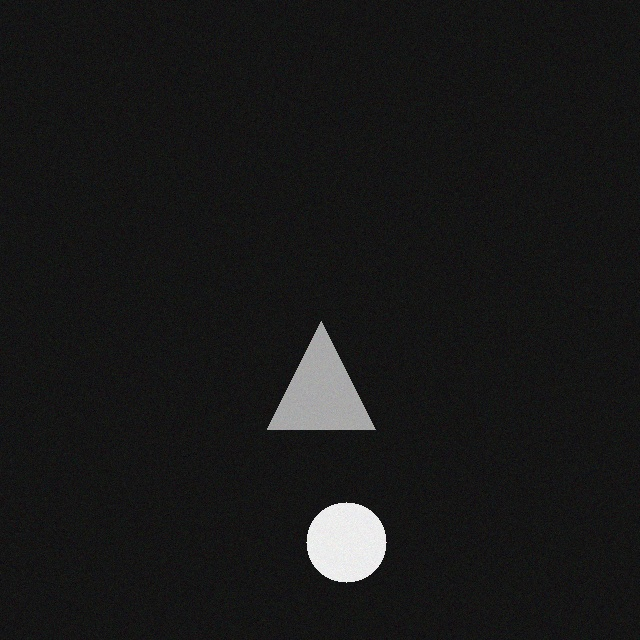circle: (320, 505, 400, 585)
triangle: (281, 324, 389, 432)
